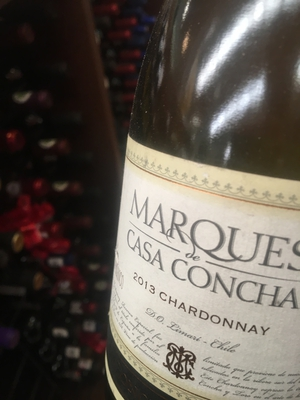marques de casa concha chardonnay: (81, 14, 300, 393)
